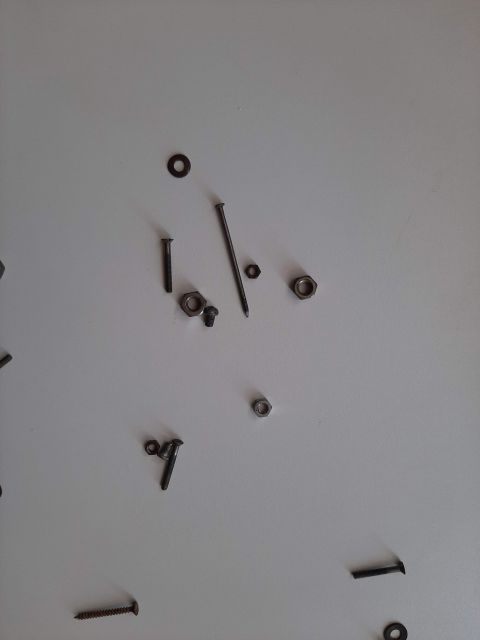gwozdz: (205, 185, 265, 325)
nakretka: (155, 275, 215, 325), (275, 265, 325, 305), (245, 385, 275, 425)
podkladka: (135, 125, 215, 185)
sruba: (135, 215, 185, 295), (335, 555, 415, 595), (155, 415, 185, 495)
